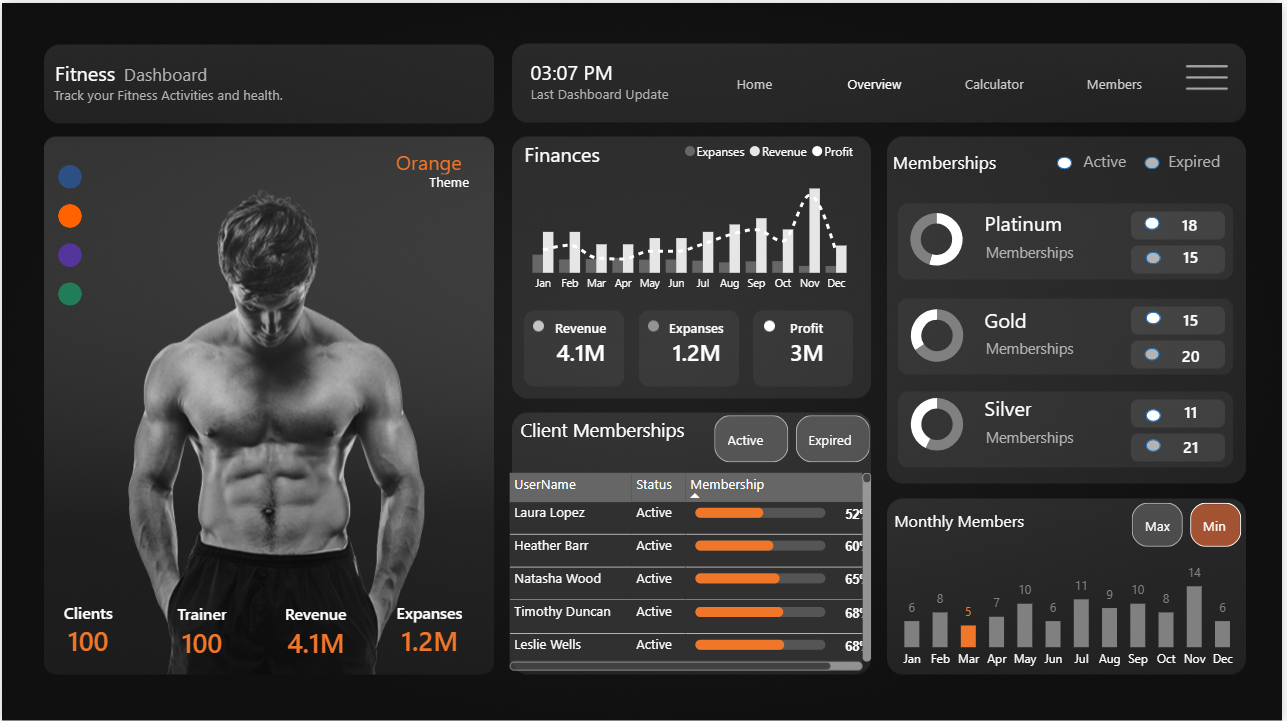

The dashboard page shown, as its layout file describes it:
{"tool":"powerbi","page":{"name":"Overview","canvas":[1280,720],"ordinal":1},"visuals":[{"type":"cardVisual","fields":{"Data":["_Measures.Users_Count"]},"box":[26,581.6,120,91],"z":0},{"type":"cardVisual","fields":{"Data":["CountNonNull(Users.Trainer Name)"]},"box":[139.8,583,120,91],"z":1000},{"type":"cardVisual","fields":{"Data":["_Measures.Revenue"]},"box":[253.6,583,120,91],"z":2000},{"type":"cardVisual","fields":{"Data":["_Measures.Expanses"]},"box":[367.5,581.6,120,91],"z":3000},{"type":"cardVisual","fields":{"Data":["_Measures.Profit"]},"box":[749.4,298,112.8,85.4],"z":4000},{"type":"cardVisual","fields":{"Data":["_Measures.Revenue"]},"box":[518.7,297.8,120.8,85.1],"z":5000},{"type":"cardVisual","fields":{"Data":["_Measures.Expanses"]},"box":[639.4,298,109.9,85.4],"z":6000},{"type":"lineClusteredColumnComboChart","fields":{"Y":["_Measures.Expanses","_Measures.Revenue"],"Y2":["_Measures.Profit"],"Category":["Calender.Month"]},"box":[515,128.8,345.8,169.3],"z":7000},{"type":"shape","box":[503.4,128.8,112.8,43.4],"z":8000},{"type":"clusteredColumnChart","fields":{"Category":["Calender.Month"],"Y":["_Measures.Users_Count"]},"box":[886.8,549.7,358.8,124.4],"z":9000},{"type":"shape","box":[886.8,494.8,141.8,43.4],"z":10000},{"type":"advancedSlicerVisual","fields":{"Values":["Min_Max_Switch.Type"]},"box":[1125.5,494.8,120.1,55],"z":11000},{"type":"tableEx","fields":{"Values":["Users.UserName","Users.Status","_Measure.SVG_BarChart1"]},"box":[500.9,465.2,373.2,207.2],"z":12000},{"type":"advancedSlicerVisual","fields":{"Values":["Users.Status"]},"box":[708.1,407.5,166,57.6],"z":13000},{"type":"shape","box":[503.6,397.9,193.5,57.6],"z":14000},{"type":"shape","box":[982.5,198.4,141.3,42.5],"z":15000},{"type":"shape","box":[982.5,294.5,141.3,42.5],"z":16000},{"type":"shape","box":[982.5,383.7,141.3,42.5],"z":17000},{"type":"shape","box":[983.7,227.1,141.3,42.5],"z":18000},{"type":"shape","box":[983.7,323.1,141.3,42.5],"z":19000},{"type":"shape","box":[983.7,412.3,141.3,42.5],"z":20000},{"type":"donutChart","fields":{"Y":["_Measure.User_Platinum"],"Category":["Users.Status"]},"box":[896.1,199,76.8,75.5],"z":21000},{"type":"donutChart","fields":{"Y":["_Measure.User_Gold"],"Category":["Users.Status"]},"box":[897.4,384.2,75.5,75.5],"z":22000},{"type":"donutChart","fields":{"Y":["_Measure.User_Silver"],"Category":["Users.Status"]},"box":[897.4,295,75.5,75.5],"z":23000},{"type":"cardVisual","fields":{"Data":["_Measure.Platinum_Active"]},"box":[1142.5,195,90,50],"z":24000},{"type":"cardVisual","fields":{"Data":["_Measure.Platinum_Expired"]},"box":[1143.8,227.5,90,50],"z":25000},{"type":"cardVisual","fields":{"Data":["_Measure.Gold_Active"]},"box":[1143.8,290,90,50],"z":26000},{"type":"cardVisual","fields":{"Data":["_Measure.Gold_Expired"]},"box":[1144,325.8,90,50],"z":27000},{"type":"cardVisual","fields":{"Data":["_Measure.Silver_Active"]},"box":[1144,382,90,50],"z":28000},{"type":"cardVisual","fields":{"Data":["_Measure.Silver_Expired"]},"box":[1144,417,90,50],"z":29000},{"type":"shape","box":[1142.5,214,15,13],"z":30000},{"type":"shape","box":[1142.5,345,15,12.5],"z":31000},{"type":"shape","box":[1143.8,308.8,15,12.5],"z":32000},{"type":"shape","box":[1143.8,406.2,15,12.5],"z":33000},{"type":"shape","box":[1143.8,248.8,15,12.5],"z":34000},{"type":"shape","box":[1143.8,436.2,15,12.5],"z":35000},{"type":"shape","box":[886.2,137.5,112.5,43.8],"z":36000},{"type":"shape","box":[1055,153.8,15,12.5],"z":37000},{"type":"shape","box":[1142.5,153.8,15,12.5],"z":38000},{"type":"shape","box":[1166.2,142.5,67.5,30],"z":39000},{"type":"shape","box":[1081.2,142.5,43.8,30],"z":40000},{"type":"shape","box":[43.8,47.5,78.8,43.8],"z":41000},{"type":"shape","box":[107.5,48.8,112.5,43.8],"z":42000},{"type":"shape","box":[35,71.2,262.5,40],"z":43000},{"type":"image","box":[1178.5,48.4,54.5,53.3],"z":44000},{"type":"shape","box":[518.4,46,101.7,44.8],"z":45000},{"type":"shape","box":[507.5,70.3,180.5,40],"z":46000},{"type":"pageNavigator","box":[697.7,58.1,471.2,43.6],"z":47000},{"type":"advancedSlicerVisual","fields":{"Values":["ColorCodes.Icon"]},"box":[43.6,153.8,48.4,158.7],"z":48000},{"type":"shape","box":[367,133.2,118.7,48.4],"z":49000},{"type":"shape","box":[417.9,158.7,59.3,40],"z":50000}]}

Visuals, with their boxes in screenshot pixels (x1, y1, x2, y2), scaled from the page's 1280x720 canvas onto the 1287x721 screenshot:
cardVisual - _Measures.Users_Count: select_region(26, 582, 147, 674)
cardVisual - CountNonNull(Users.Trainer Name): select_region(141, 584, 261, 675)
cardVisual - _Measures.Revenue: select_region(255, 584, 376, 675)
cardVisual - _Measures.Expanses: select_region(370, 582, 490, 674)
cardVisual - _Measures.Profit: select_region(753, 298, 867, 384)
cardVisual - _Measures.Revenue: select_region(522, 298, 643, 383)
cardVisual - _Measures.Expanses: select_region(643, 298, 753, 384)
lineClusteredColumnComboChart - _Measures.Expanses x _Measures.Revenue: select_region(518, 129, 866, 299)
shape: select_region(506, 129, 620, 172)
clusteredColumnChart - Calender.Month x _Measures.Users_Count: select_region(892, 550, 1252, 675)
shape: select_region(892, 495, 1034, 539)
advancedSlicerVisual - Min_Max_Switch.Type: select_region(1132, 495, 1252, 551)
tableEx - Users.UserName x Users.Status: select_region(504, 466, 879, 673)
advancedSlicerVisual - Users.Status: select_region(712, 408, 879, 466)
shape: select_region(506, 398, 701, 456)
shape: select_region(988, 199, 1130, 241)
shape: select_region(988, 295, 1130, 337)
shape: select_region(988, 384, 1130, 427)
shape: select_region(989, 227, 1131, 270)
shape: select_region(989, 324, 1131, 366)
shape: select_region(989, 413, 1131, 455)
donutChart - _Measure.User_Platinum x Users.Status: select_region(901, 199, 978, 275)
donutChart - _Measure.User_Gold x Users.Status: select_region(902, 385, 978, 460)
donutChart - _Measure.User_Silver x Users.Status: select_region(902, 295, 978, 371)
cardVisual - _Measure.Platinum_Active: select_region(1149, 195, 1239, 245)
cardVisual - _Measure.Platinum_Expired: select_region(1150, 228, 1241, 278)
cardVisual - _Measure.Gold_Active: select_region(1150, 290, 1241, 340)
cardVisual - _Measure.Gold_Expired: select_region(1150, 326, 1241, 376)
cardVisual - _Measure.Silver_Active: select_region(1150, 383, 1241, 433)
cardVisual - _Measure.Silver_Expired: select_region(1150, 418, 1241, 468)
shape: select_region(1149, 214, 1164, 227)
shape: select_region(1149, 345, 1164, 358)
shape: select_region(1150, 309, 1165, 322)
shape: select_region(1150, 407, 1165, 419)
shape: select_region(1150, 249, 1165, 262)
shape: select_region(1150, 437, 1165, 449)
shape: select_region(891, 138, 1004, 182)
shape: select_region(1061, 154, 1076, 167)
shape: select_region(1149, 154, 1164, 167)
shape: select_region(1173, 143, 1240, 173)
shape: select_region(1087, 143, 1131, 173)
shape: select_region(44, 48, 123, 91)
shape: select_region(108, 49, 221, 93)
shape: select_region(35, 71, 299, 111)
image: select_region(1185, 48, 1240, 102)
shape: select_region(521, 46, 623, 91)
shape: select_region(510, 70, 692, 110)
pageNavigator: select_region(702, 58, 1175, 102)
advancedSlicerVisual - ColorCodes.Icon: select_region(44, 154, 93, 313)
shape: select_region(369, 133, 488, 182)
shape: select_region(420, 159, 480, 199)
